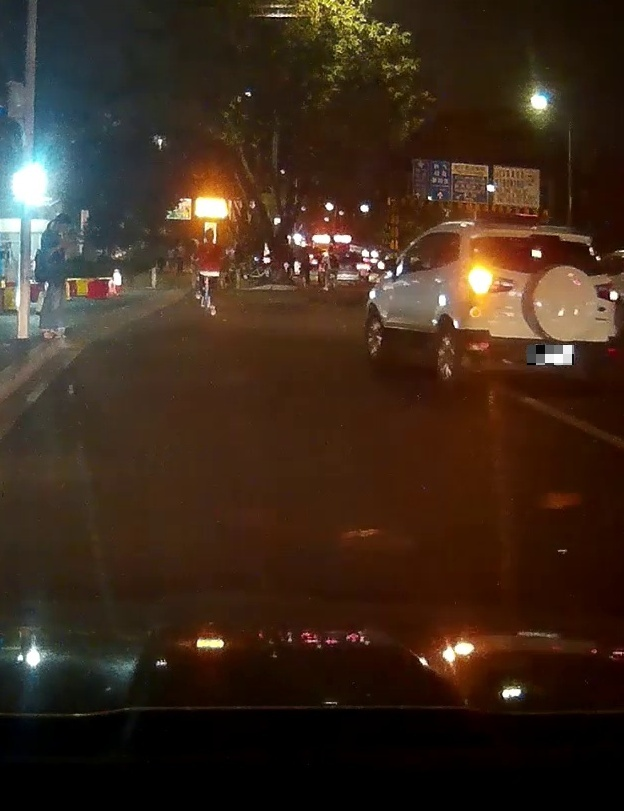L_light: (469, 268, 516, 295)
R_light: (594, 278, 619, 303)
T_light: (531, 233, 561, 243)
night-left: (462, 220, 622, 391)
plate_1: (527, 345, 574, 365)
